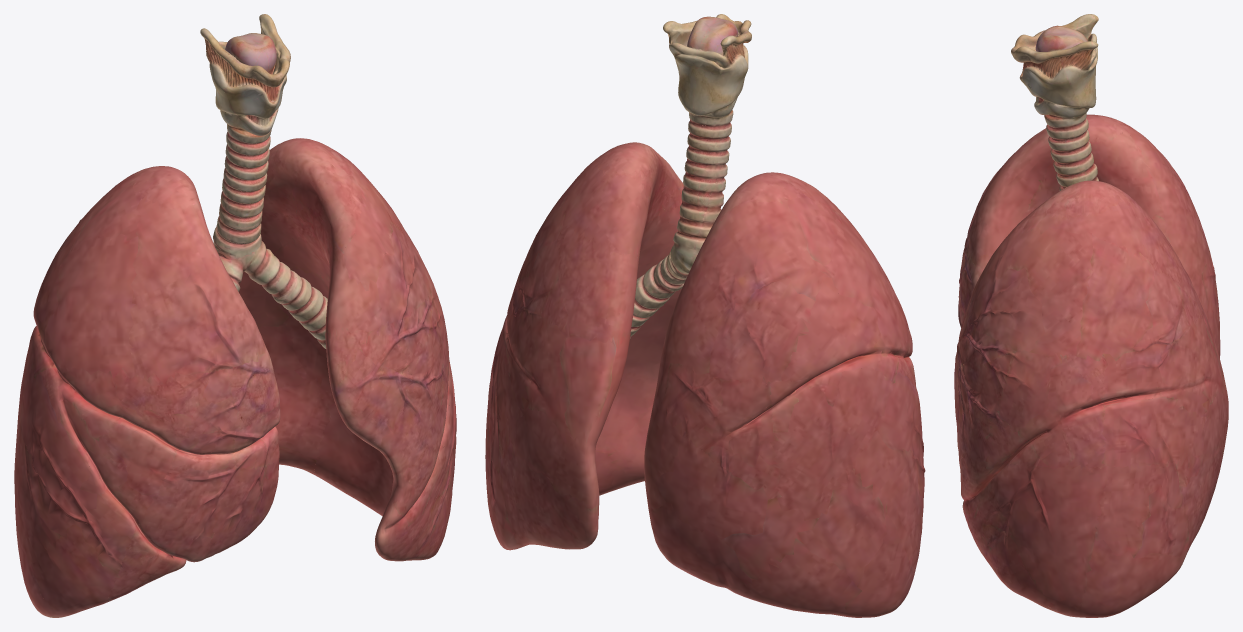
File: g3d-human-lungs.glb
The picture shows the model from 3 angles, left to right: view 1: azimuth 30°, elevation 25°; view 2: azimuth 150°, elevation 25°; view 3: azimuth 270°, elevation 25°; orthographic projection. The views are drawn at different scales.
Parts seen in each view (by area): view 1: human-lungs; view 2: human-lungs; view 3: human-lungs.
Part boxes in pixels (x1,y1,x2,y2): human-lungs: (14,14,456,617); human-lungs: (485,14,925,617); human-lungs: (954,14,1228,617).
Size of the model in its own units: 0.235 by 0.3 by 0.1468.
Materials: 1 (1 with a texture image).
